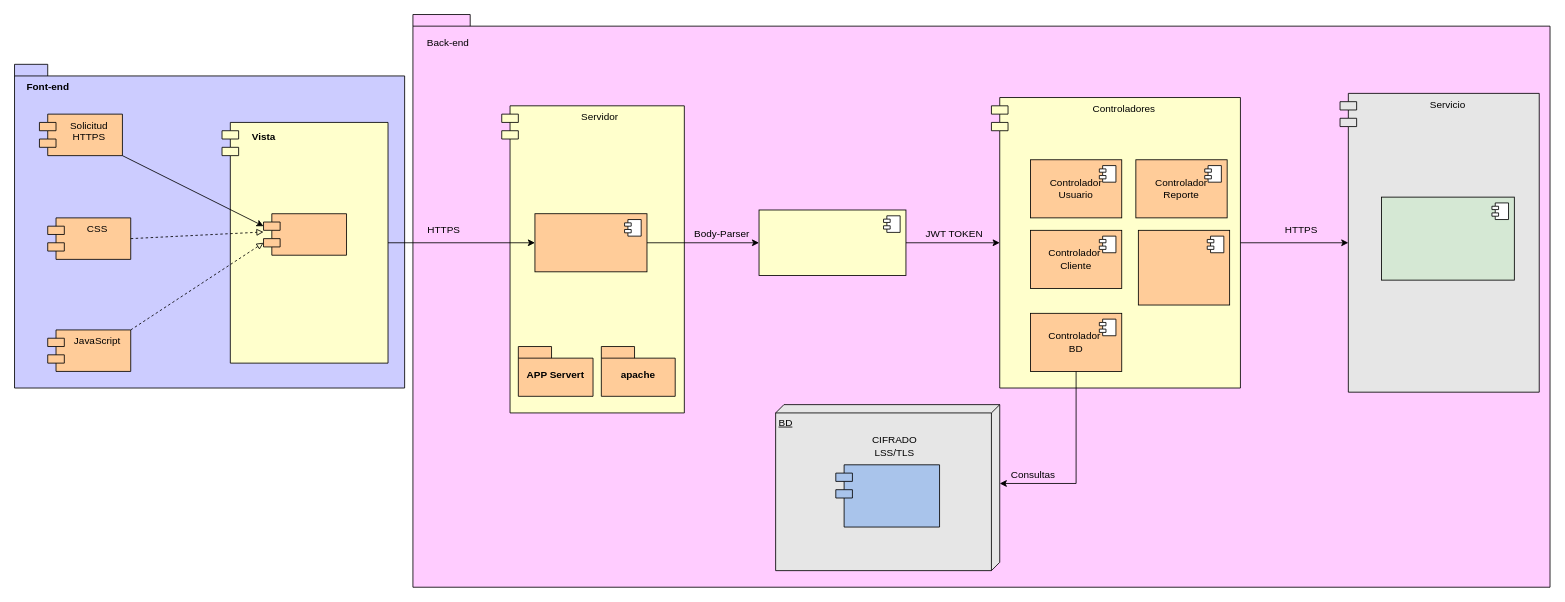
The diagram is 1565 pixels wide and 602 high, and some of its shapes have lost their labels. Here are the shapes that lost their labels. From the top down, the centre of each, then its label:
At point 305,234: "HTML".
At point 590,242: "Login".
At point 832,242: "«Middleware» AuthController".
At point 1447,238: "Envio de correo externos Mailgun".
At point 1184,267: "Controlador de respaldo".
At point 887,495: "BASE DE DATOS MySQL".
